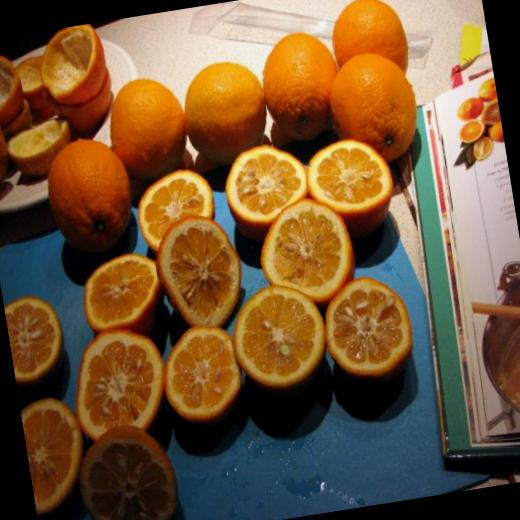Grape: (223, 268, 335, 398), (148, 208, 253, 333), (38, 125, 138, 256), (66, 322, 172, 443), (104, 73, 202, 201), (257, 190, 361, 308), (73, 414, 187, 520), (318, 268, 420, 381), (178, 54, 282, 163), (327, 47, 423, 163), (256, 26, 349, 142), (304, 128, 400, 240), (157, 313, 244, 422), (222, 138, 314, 236), (20, 394, 92, 518), (131, 160, 225, 248), (82, 248, 168, 332), (329, 0, 408, 80), (3, 290, 69, 382)
